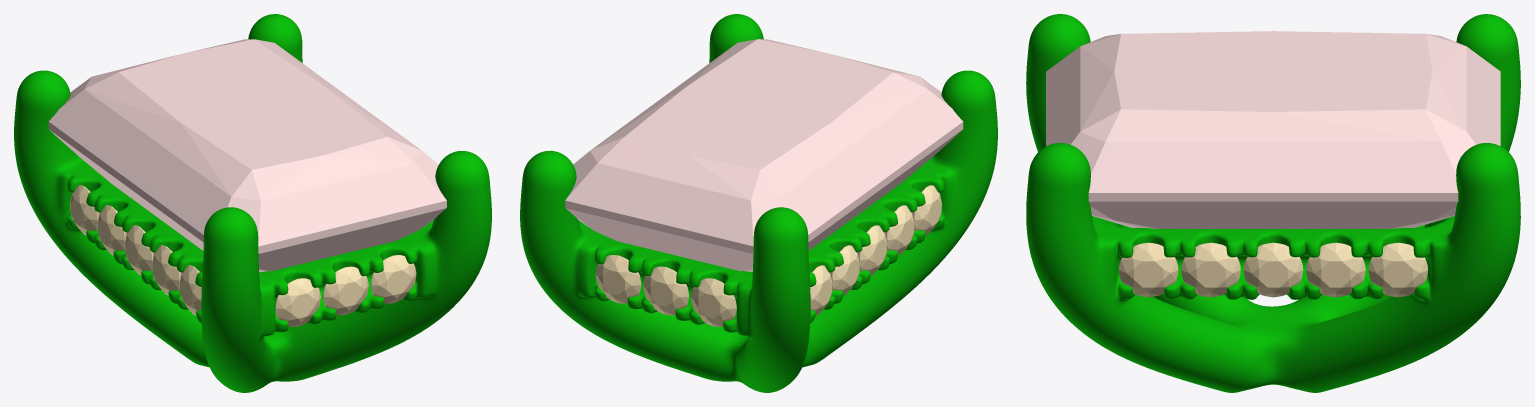
3 renders of one model, left to right at view 1: azimuth 30°, elevation 25°; view 2: azimuth 150°, elevation 25°; view 3: azimuth 270°, elevation 25°, orthographic. The views are drawn at different scales.
Visible parts, largest first — view 1: Diamond_Radiant, Metal01, Diamond_Round.013, Diamond_Round.014, Diamond_Round.015, Diamond_Round, Diamond_Round.003, Diamond_Round.004, Diamond_Round.001, Diamond_Round.002; view 2: Diamond_Radiant, Metal01, Diamond_Round.010, Diamond_Round.011, Diamond_Round.012, Diamond_Round.001, Diamond_Round, Diamond_Round.002, Diamond_Round.003, Diamond_Round.004; view 3: Diamond_Radiant, Metal01, Diamond_Round.005, Diamond_Round.006, Diamond_Round.008, Diamond_Round.009, Diamond_Round.007.
Part boxes in pixels (x1,y1,x2,y2): Diamond_Radiant: (48,39,446,272); Metal01: (14,14,491,392); Diamond_Round.013: (275,278,320,326); Diamond_Round.014: (323,266,368,315); Diamond_Round.015: (370,255,416,303); Diamond_Round: (124,225,154,275); Diamond_Round.003: (97,205,126,255); Diamond_Round.004: (69,185,99,235); Diamond_Round.001: (151,245,181,295); Diamond_Round.002: (179,265,201,315); Diamond_Radiant: (565,39,963,271); Metal01: (520,14,997,392); Diamond_Round.010: (691,278,736,326); Diamond_Round.011: (643,266,688,315); Diamond_Round.012: (595,255,641,303); Diamond_Round.001: (884,205,914,255); Diamond_Round: (857,225,887,275); Diamond_Round.002: (912,185,942,235); Diamond_Round.003: (830,245,860,295); Diamond_Round.004: (810,265,832,315); Diamond_Radiant: (1046,31,1500,228); Metal01: (1026,14,1520,392); Diamond_Round.005: (1243,242,1303,297); Diamond_Round.006: (1181,242,1240,297); Diamond_Round.008: (1306,242,1365,297); Diamond_Round.009: (1368,242,1427,297); Diamond_Round.007: (1119,242,1178,297).
Size of the model in its own units: 7.19 by 6.49 by 9.58.
